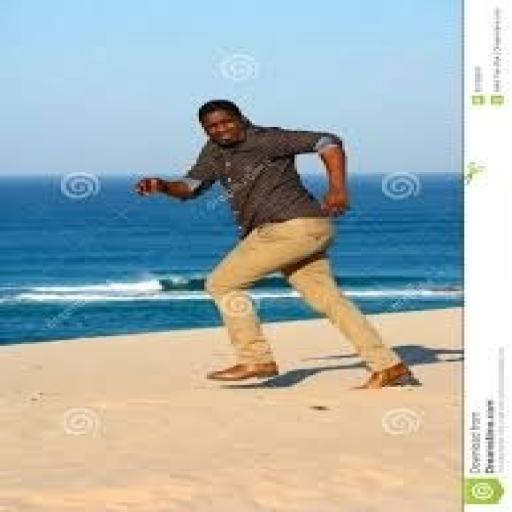running: (130, 98, 422, 391)
